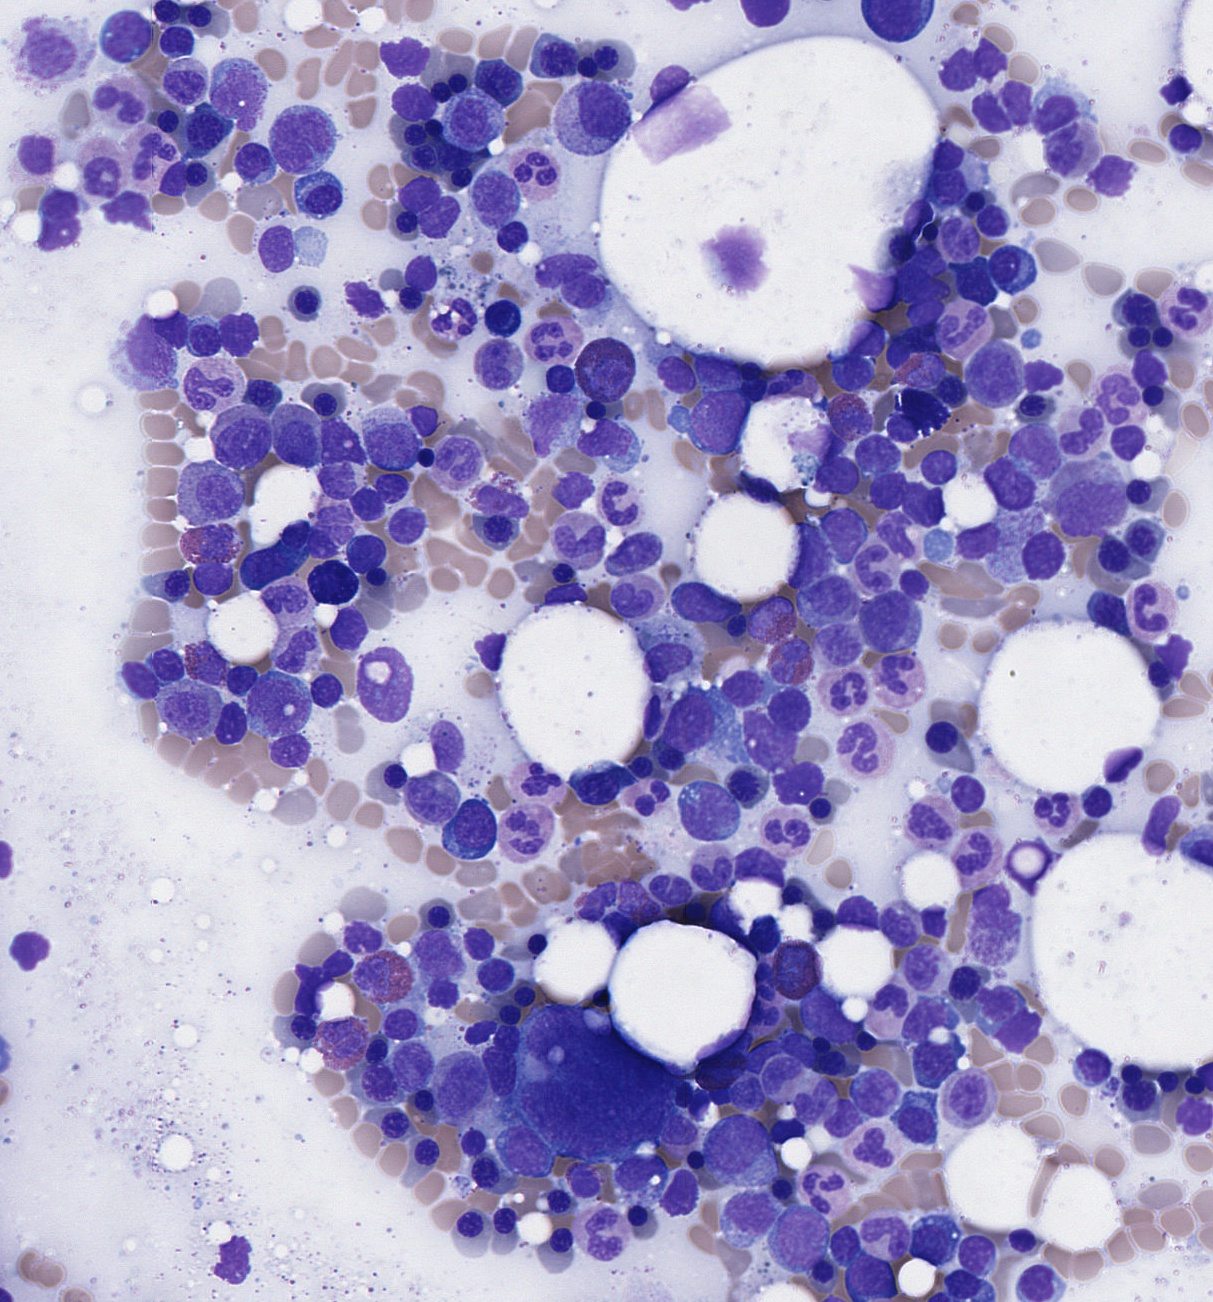objectness: (980, 241, 1031, 291), (295, 170, 345, 220), (271, 111, 321, 161), (522, 393, 572, 444), (508, 132, 559, 182), (173, 356, 223, 406), (754, 808, 804, 858), (122, 117, 172, 168), (928, 215, 978, 266), (1032, 795, 1082, 845), (442, 422, 492, 472), (584, 480, 634, 530), (495, 798, 545, 848), (506, 756, 556, 806), (1116, 589, 1166, 640), (96, 72, 146, 122), (868, 649, 918, 699), (953, 836, 1003, 886), (1080, 379, 1130, 429), (870, 1204, 920, 1254), (934, 310, 984, 360), (848, 1121, 898, 1171), (754, 1044, 804, 1095), (407, 773, 457, 823), (907, 795, 958, 845), (898, 944, 949, 994), (811, 620, 861, 670), (433, 1063, 483, 1113), (967, 351, 1017, 401), (161, 681, 211, 731), (800, 570, 850, 620), (765, 635, 815, 685), (187, 516, 237, 567), (351, 951, 401, 1001), (580, 343, 630, 393), (896, 349, 946, 399), (315, 1014, 365, 1064), (743, 592, 793, 642), (766, 939, 816, 990), (267, 627, 317, 677), (790, 1076, 840, 1126), (640, 868, 690, 918), (1055, 408, 1105, 458), (871, 504, 921, 554), (1036, 123, 1086, 173), (257, 571, 307, 621), (601, 577, 651, 627), (553, 516, 603, 567), (692, 392, 742, 442), (770, 1214, 820, 1264), (682, 788, 732, 838), (100, 14, 150, 64), (661, 701, 711, 751), (492, 1125, 543, 1175), (1013, 420, 1064, 470), (1151, 64, 1202, 114), (925, 163, 975, 213), (31, 209, 81, 259), (366, 461, 416, 511), (572, 763, 622, 813), (310, 405, 360, 455), (440, 98, 490, 148), (993, 1008, 1043, 1058), (946, 259, 996, 309), (1094, 738, 1145, 788), (930, 40, 980, 90), (530, 353, 580, 404), (463, 627, 513, 677), (648, 97, 698, 147), (559, 1157, 609, 1207), (408, 928, 458, 978), (472, 471, 522, 521), (1120, 340, 1170, 390), (836, 316, 886, 366), (1104, 1048, 1154, 1098), (1016, 526, 1066, 576), (557, 265, 608, 315), (474, 292, 524, 342), (966, 918, 1016, 968), (642, 57, 692, 107), (422, 714, 472, 764), (449, 1008, 499, 1058), (376, 29, 426, 79), (642, 633, 692, 683), (308, 450, 358, 501), (1004, 836, 1055, 886), (906, 230, 956, 280), (833, 887, 884, 937), (886, 558, 936, 608), (537, 567, 587, 617), (342, 477, 392, 527), (209, 1234, 259, 1284), (961, 35, 1011, 86), (304, 554, 355, 604), (204, 694, 254, 744), (788, 412, 838, 462), (892, 186, 942, 236), (952, 515, 1002, 565), (991, 76, 1041, 127), (1142, 1055, 1192, 1105), (921, 130, 971, 180), (309, 937, 359, 987), (1073, 775, 1123, 825), (763, 682, 813, 732), (121, 334, 171, 384), (770, 755, 820, 805), (961, 82, 1011, 132), (415, 968, 465, 1018), (710, 603, 760, 653), (465, 170, 515, 220), (659, 1169, 709, 1219), (18, 27, 68, 78), (1013, 348, 1064, 398), (718, 662, 768, 713), (673, 1081, 723, 1131), (236, 539, 286, 589), (700, 1073, 750, 1123), (271, 504, 321, 554), (627, 692, 677, 742), (412, 190, 462, 241), (366, 415, 416, 465), (676, 577, 726, 627), (249, 674, 299, 724), (160, 59, 210, 109), (365, 667, 415, 717), (910, 896, 960, 946), (898, 380, 949, 430), (1158, 114, 1208, 164), (1031, 89, 1081, 139), (812, 449, 862, 499), (1131, 800, 1181, 851), (455, 918, 505, 968), (711, 235, 762, 285), (644, 351, 694, 401), (984, 456, 1034, 506), (605, 529, 656, 579), (331, 908, 381, 958), (392, 244, 442, 294), (966, 874, 1016, 925), (897, 265, 947, 315), (898, 992, 949, 1042), (731, 840, 781, 890), (100, 184, 150, 234), (873, 402, 923, 453), (336, 276, 386, 326), (13, 123, 63, 173), (186, 552, 236, 602), (951, 1228, 1001, 1278), (339, 530, 389, 580), (841, 1251, 892, 1301), (226, 136, 276, 186), (1066, 1040, 1116, 1090), (486, 212, 536, 262), (177, 310, 227, 360), (850, 429, 901, 479), (848, 1064, 898, 1114), (384, 1037, 434, 1088), (466, 949, 516, 999), (380, 498, 430, 548), (214, 656, 264, 706), (323, 601, 373, 651), (531, 33, 581, 83), (793, 783, 844, 833), (398, 1129, 448, 1179), (1081, 581, 1131, 632), (996, 1213, 1047, 1263), (535, 1174, 585, 1224), (904, 1216, 954, 1267), (416, 64, 466, 114), (139, 92, 189, 143), (435, 154, 486, 204), (1132, 652, 1182, 702), (398, 1077, 448, 1128), (477, 1196, 527, 1246), (1138, 314, 1188, 364), (446, 798, 496, 848), (717, 758, 767, 808), (889, 1098, 939, 1148), (366, 750, 416, 800), (938, 960, 988, 1010), (384, 274, 434, 324), (457, 1150, 507, 1201), (755, 1165, 805, 1215), (350, 1025, 400, 1075), (535, 1216, 585, 1267), (511, 918, 561, 968), (645, 733, 695, 783), (905, 1034, 955, 1084), (616, 742, 666, 792), (378, 196, 429, 246), (352, 1058, 402, 1108), (176, 108, 226, 158), (535, 547, 585, 597), (497, 971, 547, 1022), (1115, 283, 1165, 333), (473, 503, 523, 553), (299, 665, 349, 715), (350, 552, 400, 602), (442, 1197, 492, 1247), (368, 1100, 418, 1150), (390, 109, 440, 160), (611, 1194, 661, 1244), (236, 371, 286, 421), (483, 990, 534, 1040), (568, 384, 618, 434), (1009, 380, 1059, 430), (170, 147, 220, 197), (443, 1116, 494, 1166), (278, 277, 328, 327), (1125, 369, 1175, 420), (1065, 478, 1115, 528), (708, 1122, 758, 1172), (860, 596, 910, 646), (564, 1068, 614, 1118), (211, 68, 261, 117), (583, 414, 632, 464), (567, 1209, 617, 1258), (846, 711, 896, 760), (824, 656, 874, 705), (787, 1159, 837, 1209), (842, 544, 892, 594), (306, 495, 355, 545), (622, 773, 671, 823), (271, 418, 321, 467), (872, 900, 922, 949), (941, 1074, 990, 1124), (192, 467, 241, 518), (825, 394, 876, 444), (180, 638, 230, 687), (469, 339, 518, 389), (684, 851, 734, 900), (337, 910, 386, 960), (868, 974, 917, 1024), (819, 508, 868, 559), (549, 462, 599, 512), (474, 1045, 524, 1095), (736, 707, 785, 757), (386, 79, 435, 129), (1151, 622, 1200, 673), (762, 1104, 811, 1154), (143, 302, 192, 352), (264, 726, 314, 776), (211, 306, 261, 355), (907, 519, 956, 569), (860, 467, 910, 516), (1104, 416, 1153, 466), (249, 222, 298, 272), (114, 654, 164, 703), (284, 223, 334, 272), (831, 345, 881, 394), (480, 1014, 530, 1063), (872, 223, 922, 272), (693, 345, 743, 394), (402, 393, 451, 444), (1086, 150, 1135, 201), (143, 636, 192, 686), (848, 265, 898, 314), (531, 241, 581, 290), (5, 925, 54, 975), (899, 477, 949, 527), (36, 178, 86, 228), (783, 534, 833, 583), (899, 284, 949, 334), (150, 16, 200, 66), (914, 444, 964, 493), (817, 1095, 868, 1144), (396, 135, 446, 184), (1120, 515, 1169, 565), (1112, 1075, 1161, 1125), (470, 52, 520, 101), (563, 44, 613, 93), (797, 1248, 847, 1297), (949, 176, 998, 226), (1114, 467, 1164, 516), (583, 30, 632, 80), (299, 379, 349, 428), (424, 135, 474, 184), (1086, 530, 1135, 580), (412, 892, 461, 942), (149, 558, 200, 607), (275, 1004, 325, 1053), (435, 57, 485, 107), (215, 418, 266, 467), (573, 86, 622, 135), (280, 965, 329, 1014), (394, 166, 443, 215), (941, 768, 990, 817), (1112, 314, 1161, 363), (915, 713, 964, 762), (1169, 1059, 1213, 1109), (1169, 1091, 1213, 1141), (1011, 1259, 1061, 1302), (1171, 279, 1213, 329), (935, 1260, 985, 1302), (868, 0, 917, 41), (176, 0, 225, 40), (738, 0, 788, 36), (139, 0, 189, 36), (1182, 1047, 1213, 1097)
